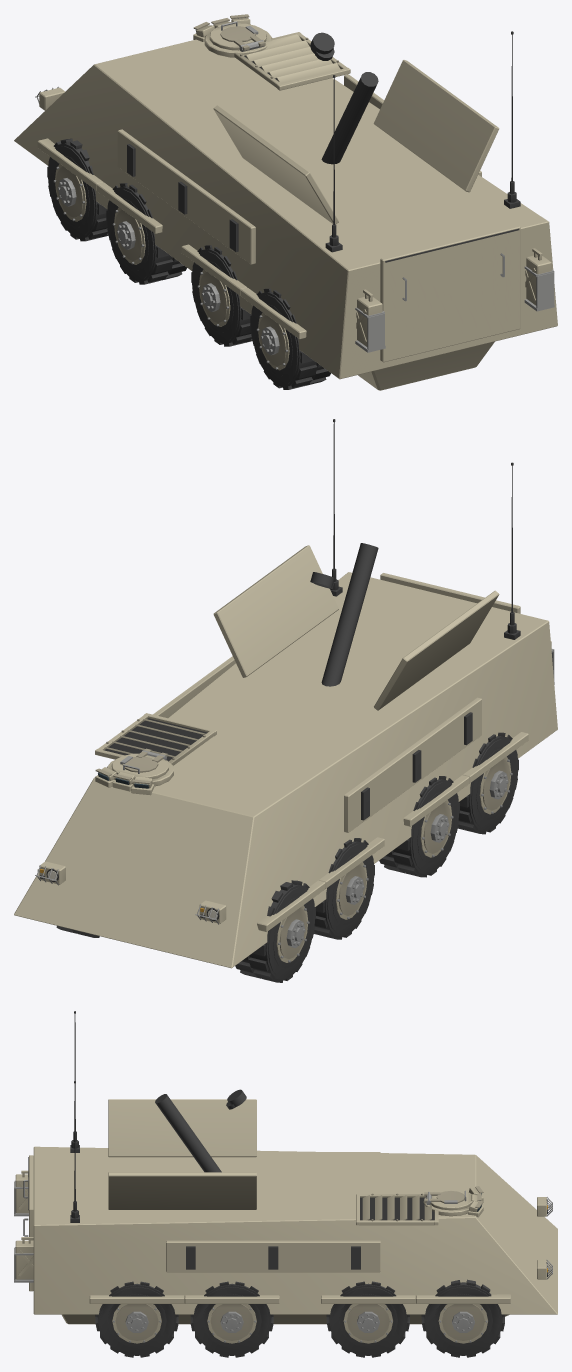
File: usa_cst_lavm.glb
The picture shows the model from 3 angles, top to bottom: view 1: azimuth 30°, elevation 25°; view 2: azimuth 150°, elevation 25°; view 3: azimuth 270°, elevation 25°; orthographic projection. The views are drawn at different scales.
Visible parts, largest first — view 1: body, door, wheel_2, wheel_6, wheel_0, wheel_4, barrel; view 2: body, wheel_0, wheel_4, wheel_6, wheel_2, barrel, door; view 3: body, wheel_1, wheel_3, wheel_7, wheel_5, barrel, door.
Part boxes in pixels (x1,y1,x2,y2): body: (14,14,557,390); door: (380,225,520,362); wheel_2: (106,183,186,284); wheel_6: (250,288,330,389); wheel_0: (47,138,108,241); wheel_4: (191,245,252,346); barrel: (310,32,378,164); body: (14,419,557,968); wheel_0: (235,880,315,982); wheel_4: (379,776,459,877); wheel_6: (457,732,518,834); wheel_2: (313,838,374,939); barrel: (310,543,378,686); door: (380,573,520,613); body: (14,1011,557,1324); wheel_1: (421,1279,504,1357); wheel_3: (326,1281,409,1357); wheel_7: (95,1281,178,1357); wheel_5: (190,1281,273,1357); barrel: (155,1089,246,1172); door: (23,1155,33,1291).
Size of the model in its own units: 2.66 by 3.59 by 6.58.
